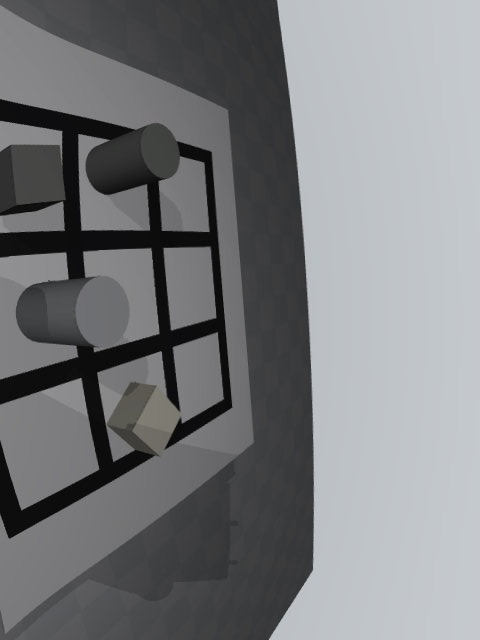can: (16, 275, 130, 347)
cube: (0, 144, 66, 216)
cylinder: (85, 123, 180, 195)
foam: (106, 382, 181, 457)
